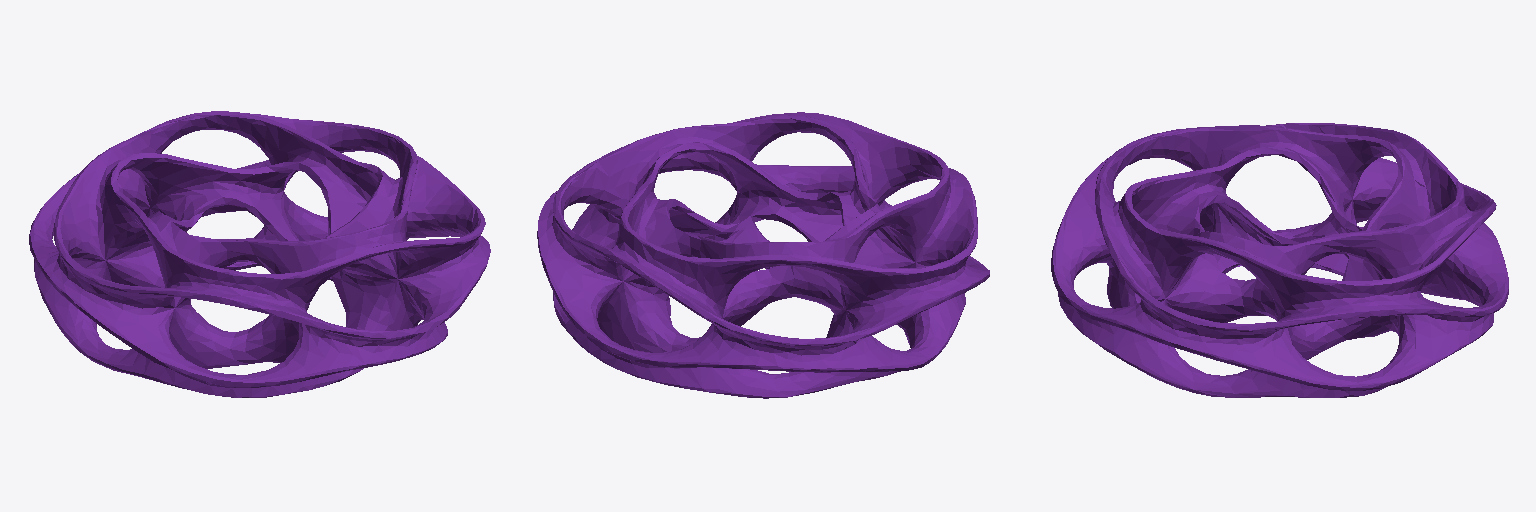
The model's file is heptoroid8KN.obj.
3 renders of one model, left to right at view 1: azimuth 30°, elevation 25°; view 2: azimuth 150°, elevation 25°; view 3: azimuth 270°, elevation 25°, orthographic.
Size of the model in its own units: 6.68 by 2.4 by 6.69.